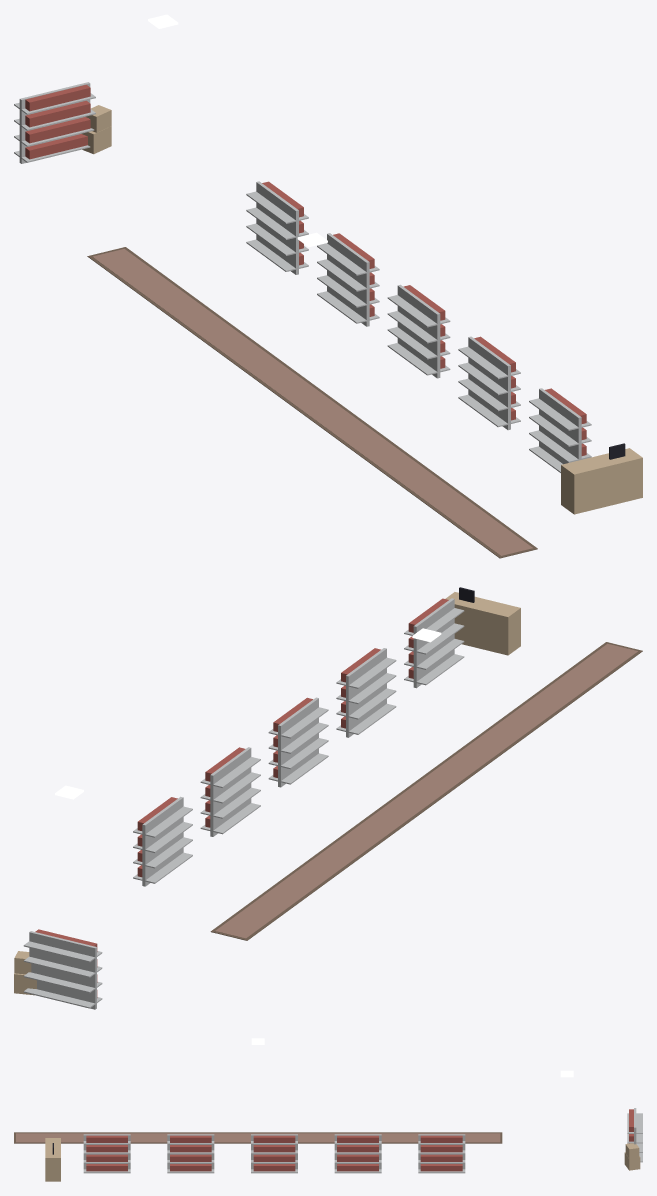
Rendered from fine-s0.glb.
The picture shows the model from 3 angles, top to bottom: view 1: azimuth 30°, elevation 25°; view 2: azimuth 150°, elevation 25°; view 3: azimuth 270°, elevation 25°; orthographic projection. The views are drawn at different scales.
Parts seen in each view (by area): view 1: soft-s0, shelving.000, shop-counter.000, shelf.002, shelf.001, shelf.003, shelf.000, shelf.004, cardboard-box.000; view 2: soft-s0, shelving.000, shelf.001, shelf.000, shelf.002, shelf.003, shelf.004, shop-counter.000, cardboard-box.000; view 3: soft-s0, shelf.000, shelf.001, shelf.003, shelf.004, shelf.002, shop-counter.000, shelving.000, cardboard-box.000.
Boxes of the visible parts, bbox=[...] form: soft-s0: bbox=[87, 247, 537, 558]; shelving.000: bbox=[14, 82, 95, 163]; shop-counter.000: bbox=[561, 443, 642, 514]; shelf.002: bbox=[387, 284, 450, 378]; shelf.001: bbox=[317, 233, 379, 326]; shelf.003: bbox=[458, 336, 520, 430]; shelf.000: bbox=[246, 181, 308, 274]; shelf.004: bbox=[529, 388, 591, 472]; cardboard-box.000: bbox=[81, 105, 111, 154]; soft-s0: bbox=[210, 642, 642, 940]; shelving.000: bbox=[23, 929, 102, 1009]; shelf.001: bbox=[200, 747, 260, 836]; shelf.000: bbox=[133, 796, 192, 886]; shelf.002: bbox=[268, 697, 328, 787]; shelf.003: bbox=[336, 648, 396, 737]; shelf.004: bbox=[404, 598, 464, 688]; shop-counter.000: bbox=[445, 587, 520, 655]; cardboard-box.000: bbox=[14, 951, 36, 995]; soft-s0: bbox=[14, 1132, 502, 1143]; shelf.000: bbox=[418, 1134, 465, 1173]; shelf.001: bbox=[334, 1134, 381, 1173]; shelf.003: bbox=[167, 1134, 214, 1173]; shelf.004: bbox=[83, 1134, 130, 1173]; shelf.002: bbox=[251, 1134, 297, 1173]; shop-counter.000: bbox=[45, 1138, 60, 1181]; shelving.000: bbox=[627, 1108, 642, 1162]; cardboard-box.000: bbox=[624, 1143, 640, 1170].
Size of the model in its own units: 4.43 by 4.1 by 24.06.
